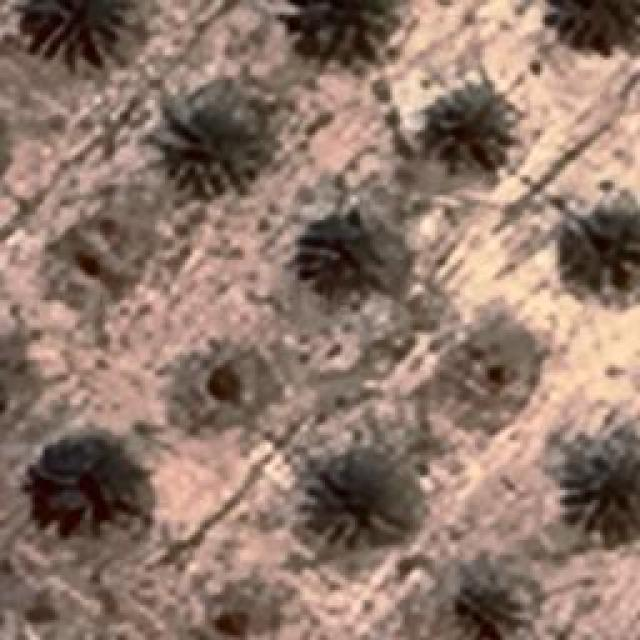PalmTree: (560, 415, 638, 543), (290, 210, 395, 300), (39, 427, 132, 525), (310, 460, 415, 545), (160, 107, 260, 195), (560, 198, 638, 298), (420, 86, 512, 166), (288, 0, 400, 65), (18, 0, 132, 60), (438, 580, 532, 640), (550, 0, 638, 48)
